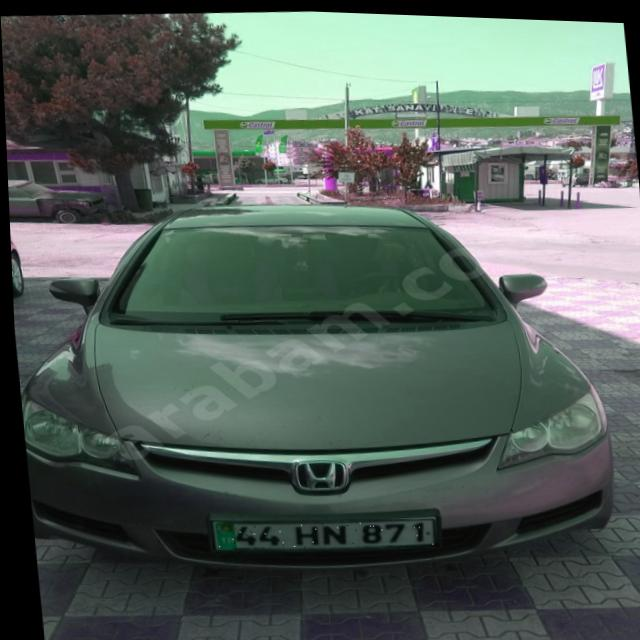license_plate: (206, 508, 434, 555)
